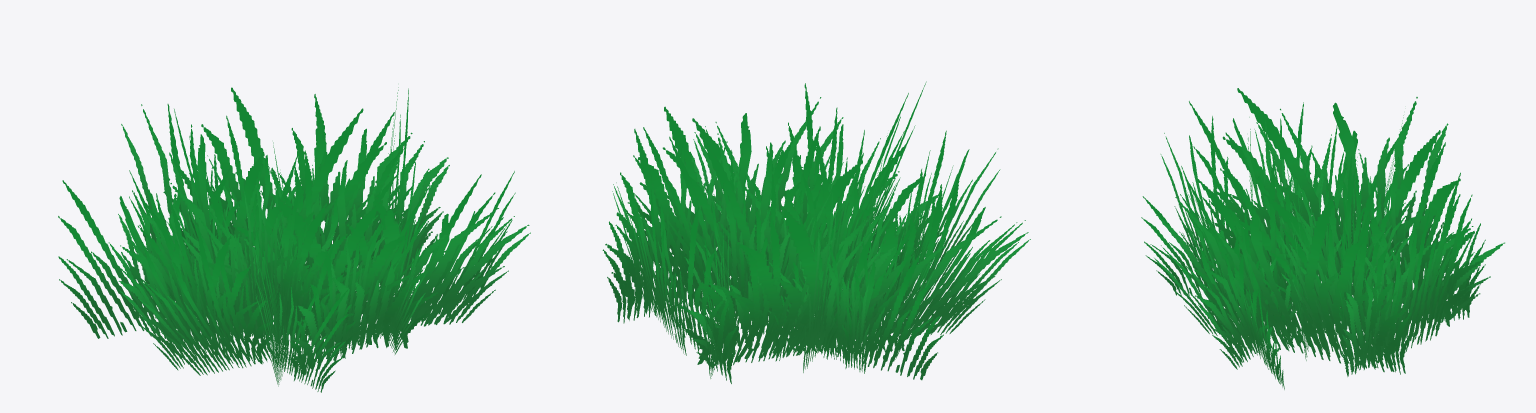
File: Grass.fbx
3 renders of one model, left to right at view 1: azimuth 30°, elevation 25°; view 2: azimuth 150°, elevation 25°; view 3: azimuth 270°, elevation 25°, orthographic. The views are drawn at different scales.
Parts seen in each view (by area): view 1: Grass, GrassLowPoly; view 2: Grass, GrassLowPoly; view 3: Grass, GrassLowPoly.
Part boxes in pixels (left/top/right/bottom): Grass: left=58, top=87, right=530, bottom=392; GrassLowPoly: left=118, top=87, right=529, bottom=375; Grass: left=602, top=81, right=1030, bottom=380; GrassLowPoly: left=605, top=93, right=1028, bottom=383; Grass: left=1141, top=101, right=1485, bottom=389; GrassLowPoly: left=1156, top=88, right=1504, bottom=383.
Bounding box in the file's own units: 1.55 × 0.9162 × 1.31.
